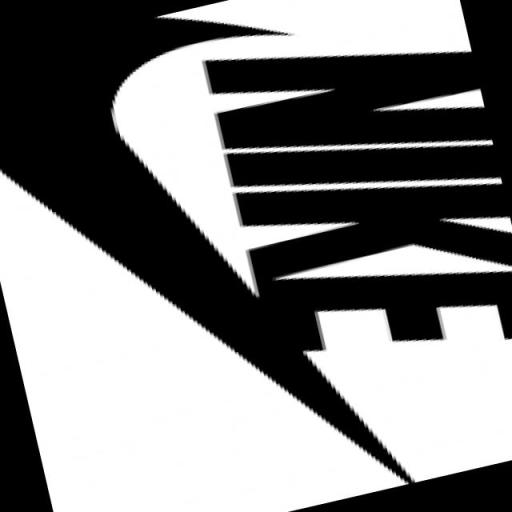Nike: (0, 0, 424, 512), (197, 0, 512, 410)
